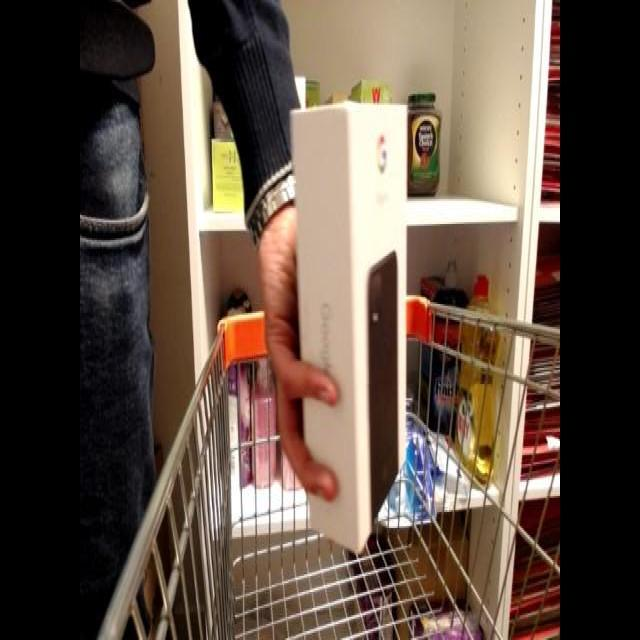Pixel 4: (283, 86, 428, 563)
